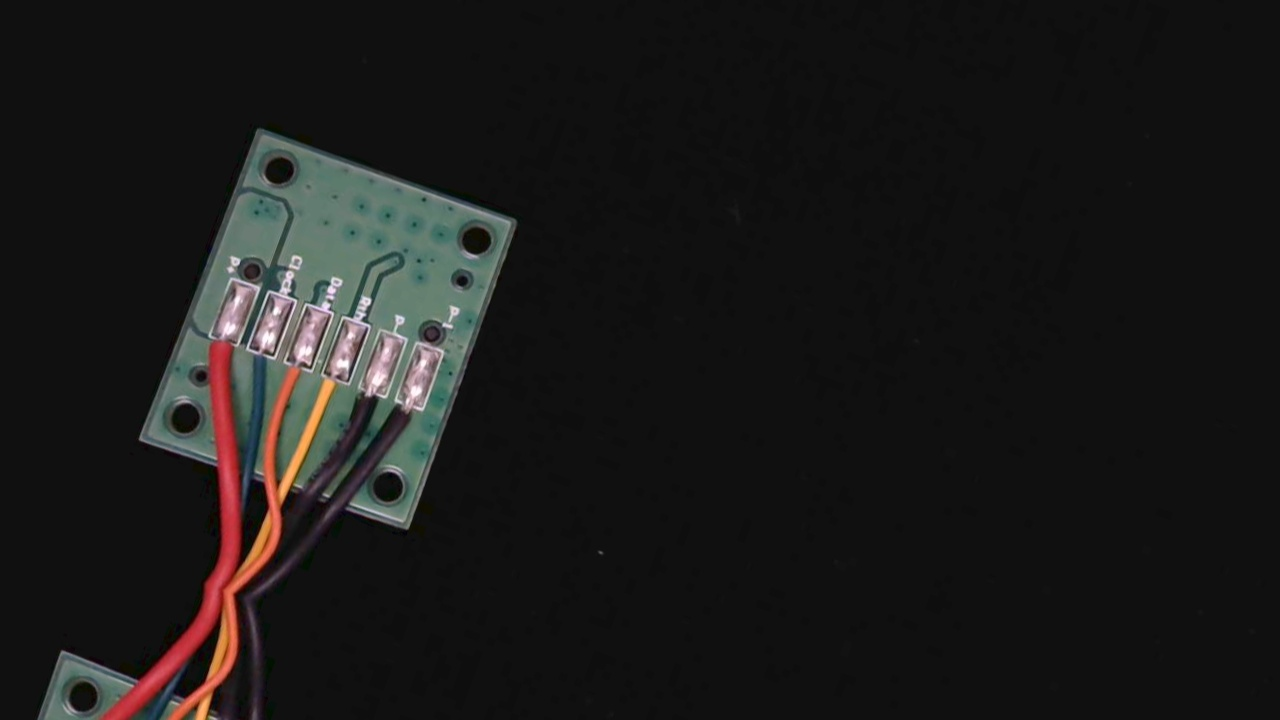Black: (340, 368, 393, 446)
Black1: (379, 384, 428, 452)
Green: (232, 330, 279, 395)
Orange: (269, 341, 319, 412)
Red: (193, 315, 246, 389)
Yellow: (303, 355, 355, 434)
